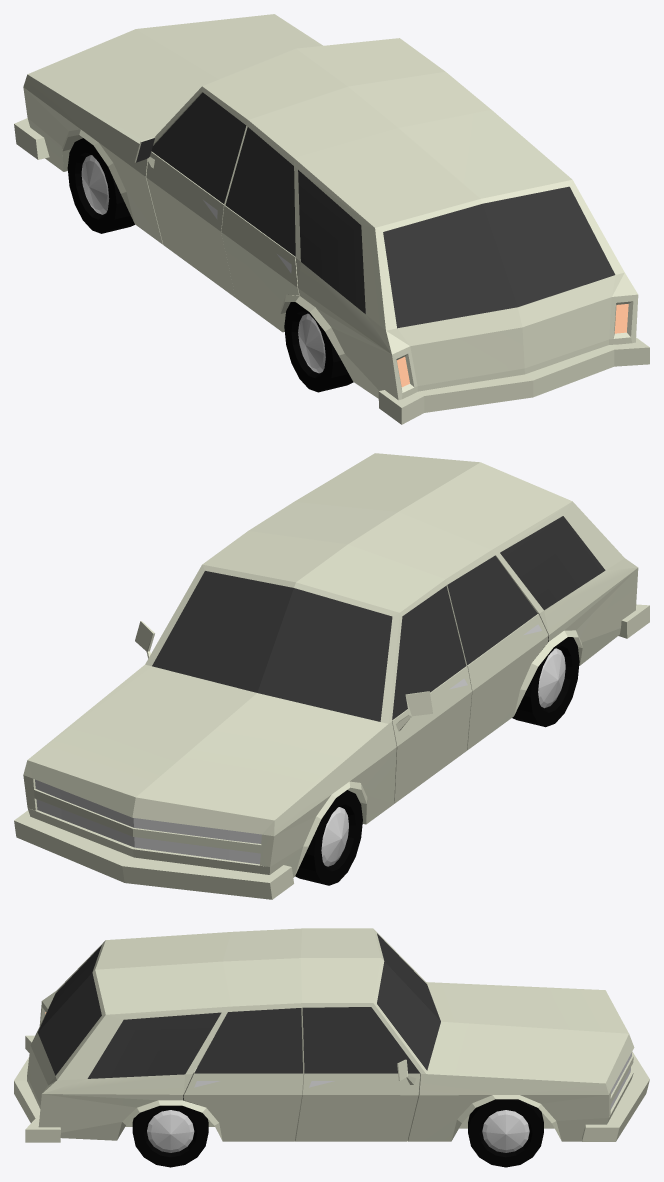
File: Car_Long_0.glb
3 views of the same model, one above another, from view 1: azimuth 30°, elevation 25°; view 2: azimuth 150°, elevation 25°; view 3: azimuth 270°, elevation 25° (orthographic). The views are drawn at different scales.
Parts seen in each view (by area): view 1: wagon_A_Body.002, wagon_A_DoorL.002, wagon_A_DoorL2.002, wagon_AwheelFL.002, wagon_AwheelRL.002; view 2: wagon_A_Body.002, wagon_A_DoorL.002, wagon_A_DoorL2.002, wagon_AwheelFL.002, wagon_AwheelRL.002; view 3: wagon_A_Body.002, wagon_A_DoorR.002, wagon_A_DoorR2.002, wagon_AwheelFR.002, wagon_AwheelRR.002.
Part boxes in pixels (x1,y1,x2,y2): wagon_A_Body.002: [14, 14, 649, 424]; wagon_A_DoorL.002: [135, 92, 246, 297]; wagon_A_DoorL2.002: [221, 127, 299, 332]; wagon_AwheelFL.002: [67, 138, 134, 233]; wagon_AwheelRL.002: [284, 302, 353, 392]; wagon_A_Body.002: [14, 453, 649, 899]; wagon_A_DoorL.002: [392, 585, 471, 803]; wagon_A_DoorL2.002: [447, 555, 548, 750]; wagon_AwheelFL.002: [295, 790, 362, 885]; wagon_AwheelRL.002: [512, 635, 579, 727]; wagon_A_Body.002: [14, 928, 649, 1142]; wagon_A_DoorR.002: [295, 1007, 420, 1141]; wagon_A_DoorR2.002: [183, 1008, 303, 1141]; wagon_AwheelFR.002: [468, 1099, 543, 1167]; wagon_AwheelRR.002: [132, 1094, 208, 1167].
Bounding box in the file's own units: 2.1 × 1.42 × 5.01.
